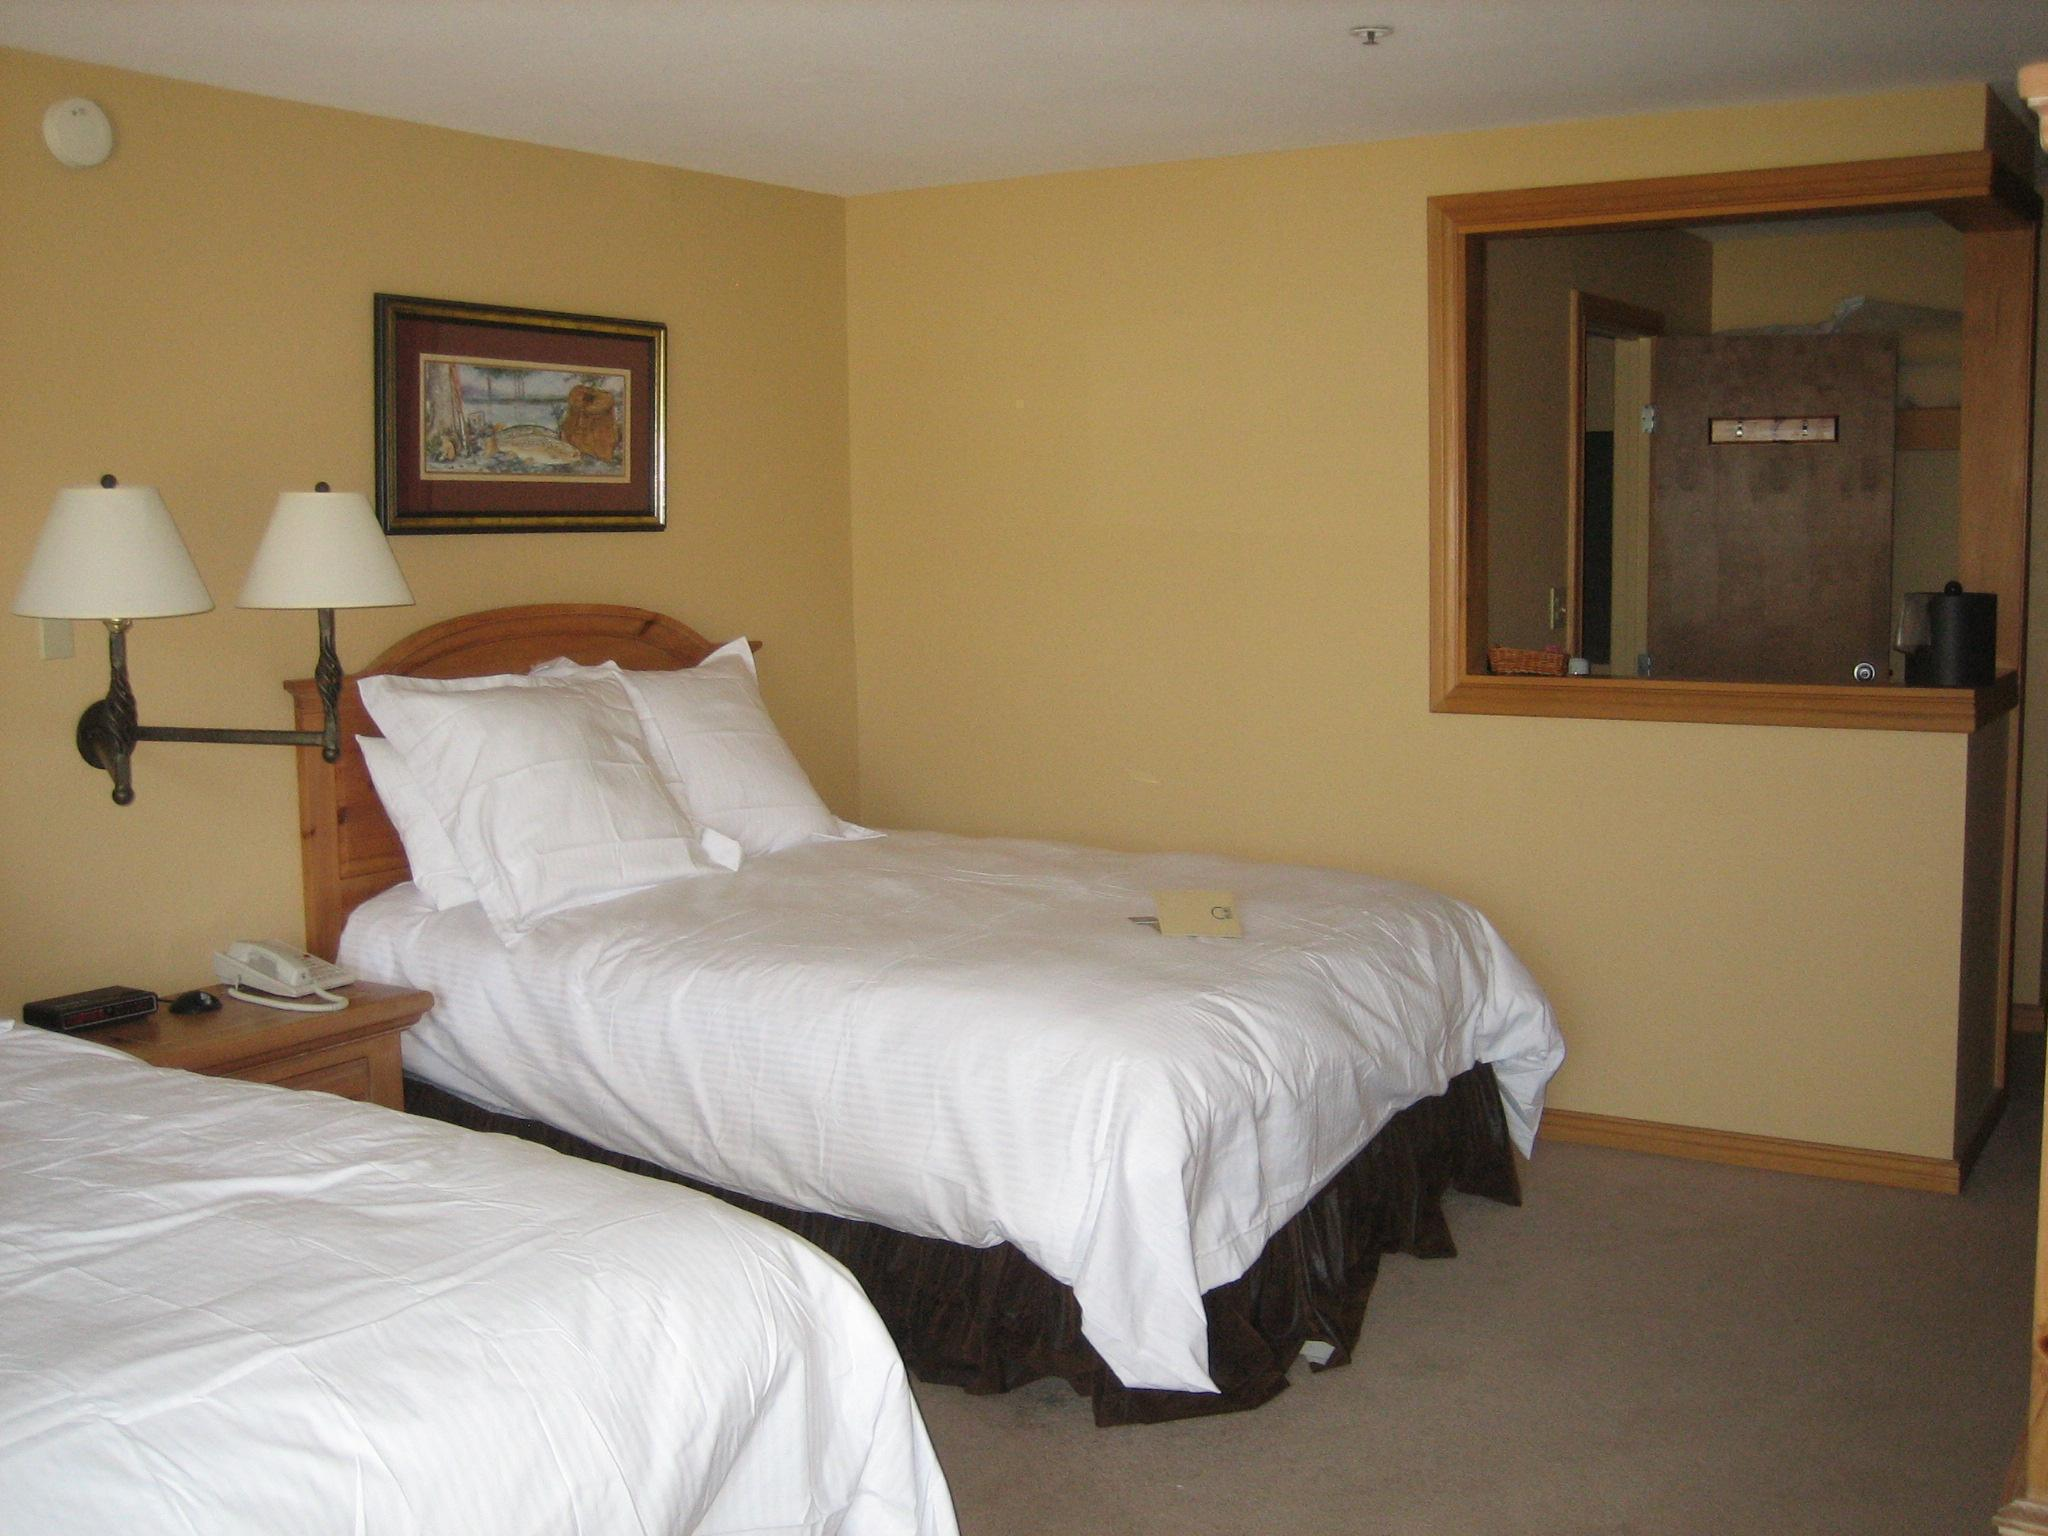Cama: (342, 629, 1534, 1425), (5, 1042, 955, 1534)
Otro Obstaculo: (27, 449, 348, 820)
Puerta: (1645, 331, 1888, 682)
